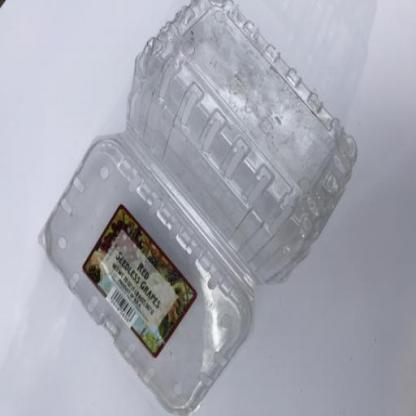trash: (37, 0, 356, 416)
